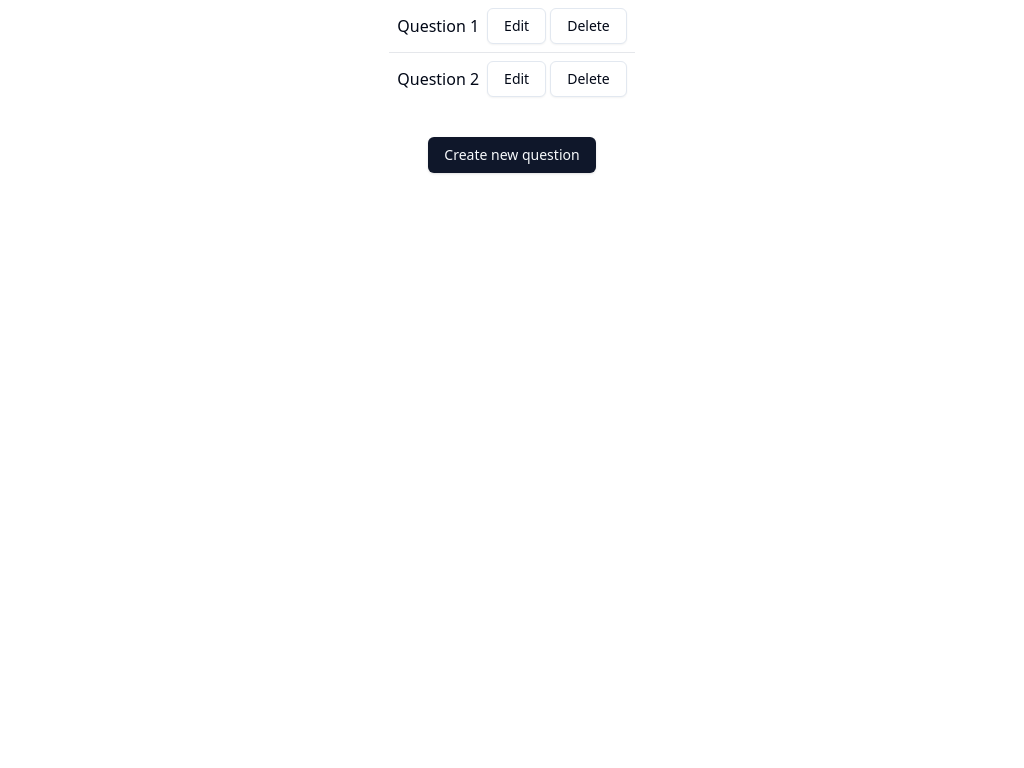
Test case: Questions Component › opens upsert question modal on edit button click
The image size is (1024, 768).
Click the button "Edit" next to "Question 1" at (517, 26), box [487, 8, 546, 44]
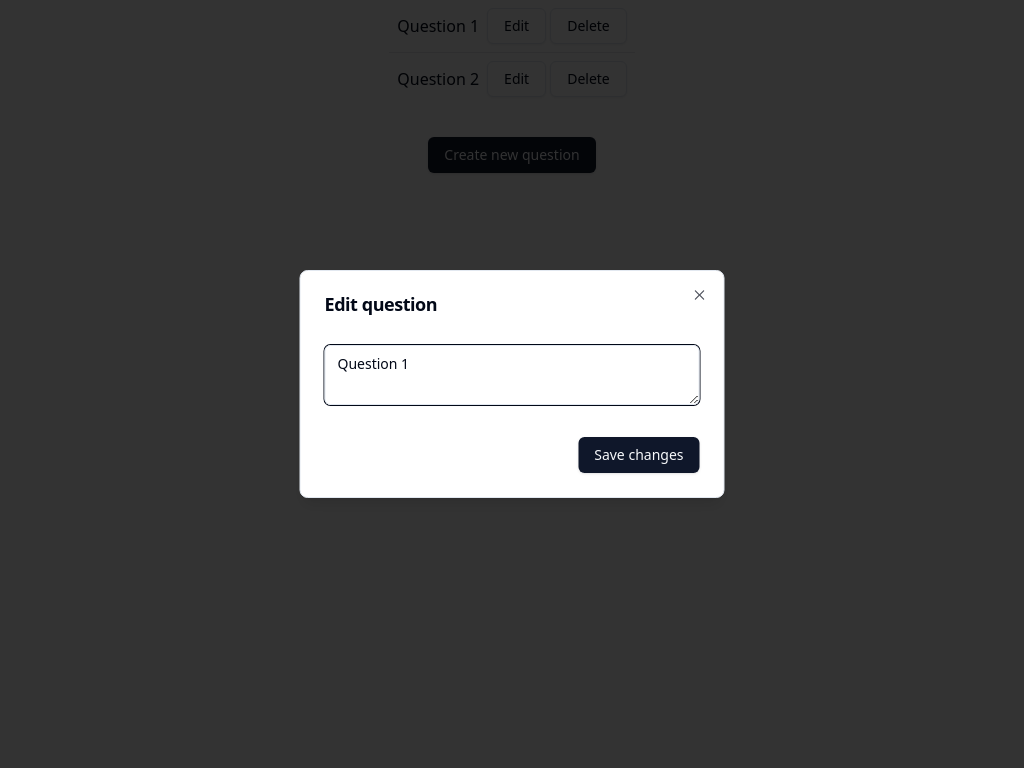
Now the heading "Edit question" is shown, box [324, 292, 437, 316]
